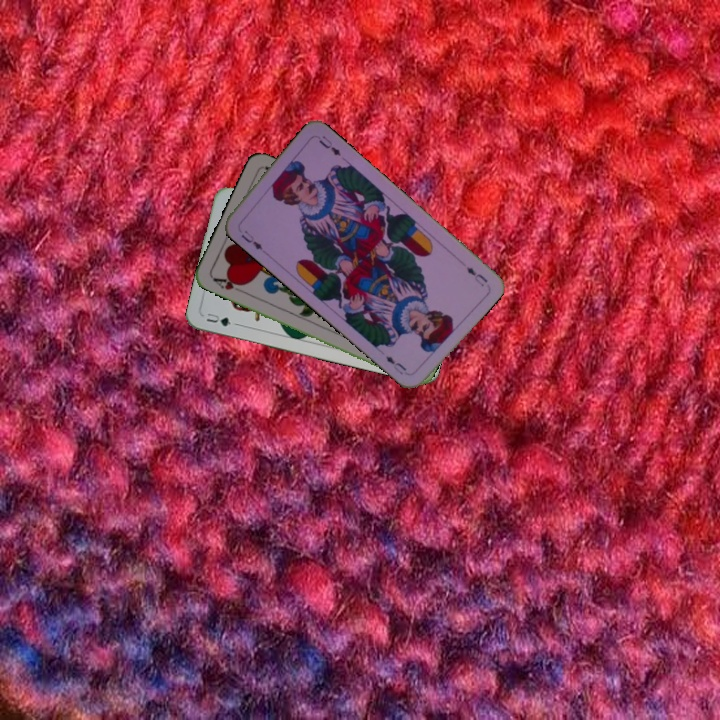EU: (462, 262, 491, 289), (237, 226, 265, 253)
GU: (202, 309, 233, 329)
HA: (208, 273, 247, 296)
